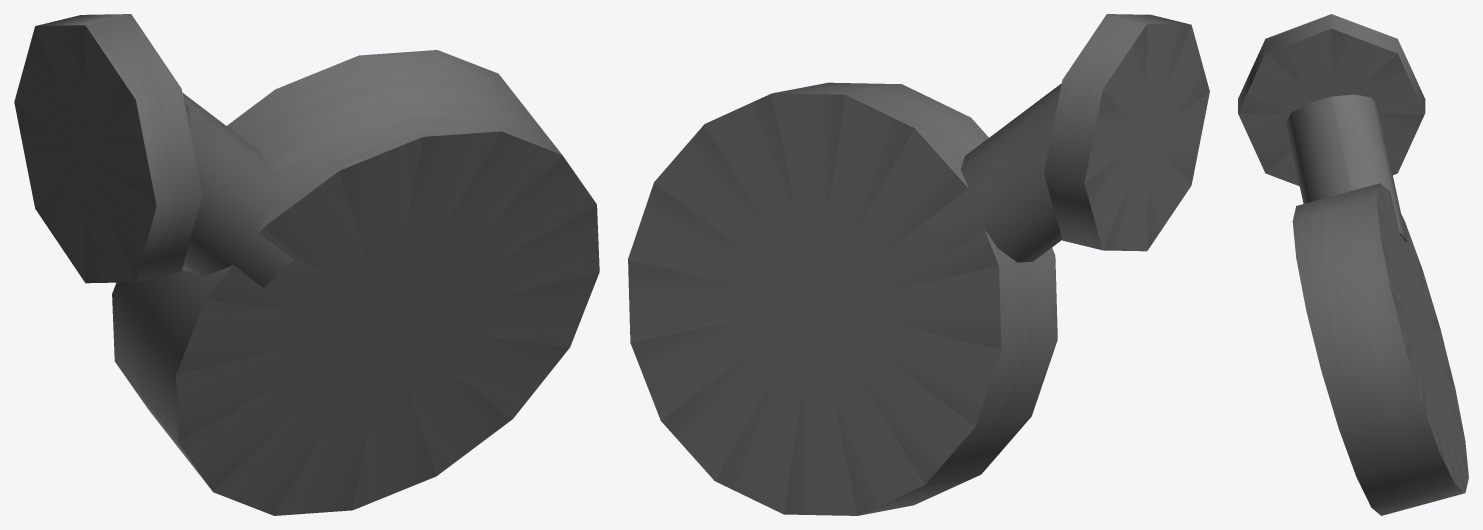
The model's file is mastarmcurve_4x1_c2_west.obj.
3 views of the same model, side by side, from view 1: azimuth 30°, elevation 25°; view 2: azimuth 150°, elevation 25°; view 3: azimuth 270°, elevation 25° (orthographic). The views are drawn at different scales.
Parts seen in each view (by area): view 1: mastarm_4x1_c2_west; view 2: mastarm_4x1_c2_west; view 3: mastarm_4x1_c2_west.
Part boxes in pixels (bbox=[...]): mastarm_4x1_c2_west: bbox=[14, 14, 599, 515]; mastarm_4x1_c2_west: bbox=[628, 14, 1209, 515]; mastarm_4x1_c2_west: bbox=[1238, 14, 1468, 515].
Bounding box in the file's own units: 0.843 × 0.9146 × 0.4936.
